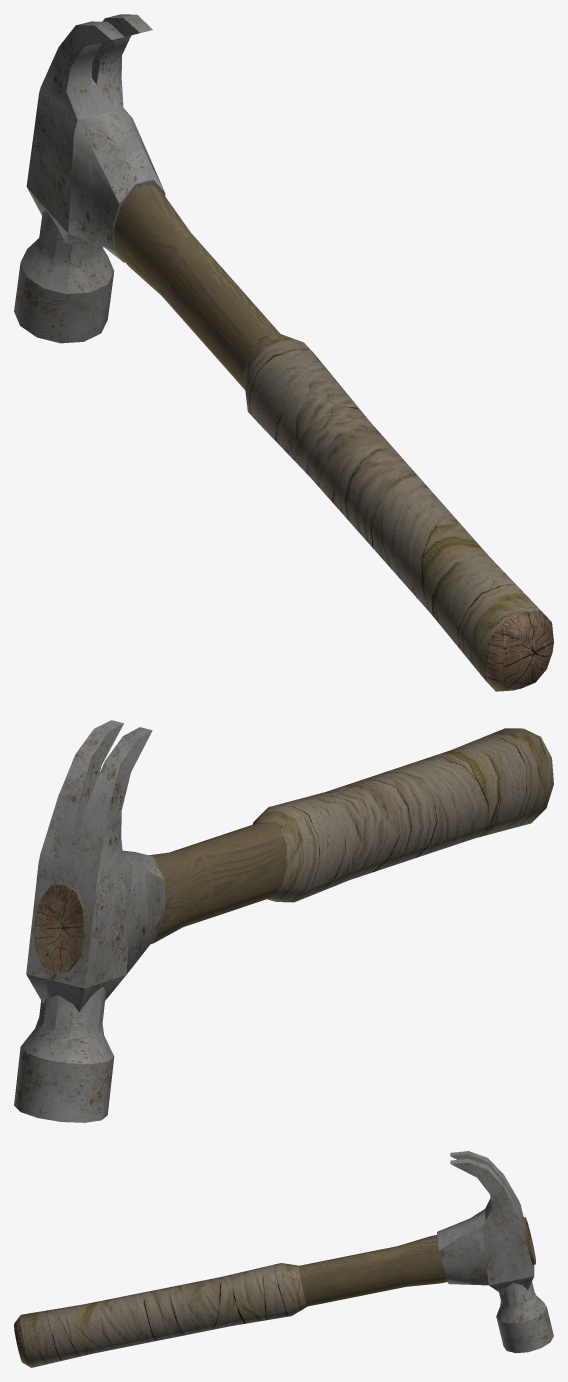
Rendered from Hammer.fbx.
3 renders of one model, top to bottom at view 1: azimuth 30°, elevation 25°; view 2: azimuth 150°, elevation 25°; view 3: azimuth 270°, elevation 25°, orthographic. The views are drawn at different scales.
Parts seen in each view (by area): view 1: Cylinder_003_3; view 2: Cylinder_003_3; view 3: Cylinder_003_3.
Part boxes in pixels (box(x1,y1,x2,y2)): Cylinder_003_3: box(14, 14, 553, 691); Cylinder_003_3: box(14, 720, 553, 1122); Cylinder_003_3: box(14, 1151, 553, 1367).
Size of the model in its own units: 2.36 by 10.47 by 24.58.
1 material, 1 textured.
